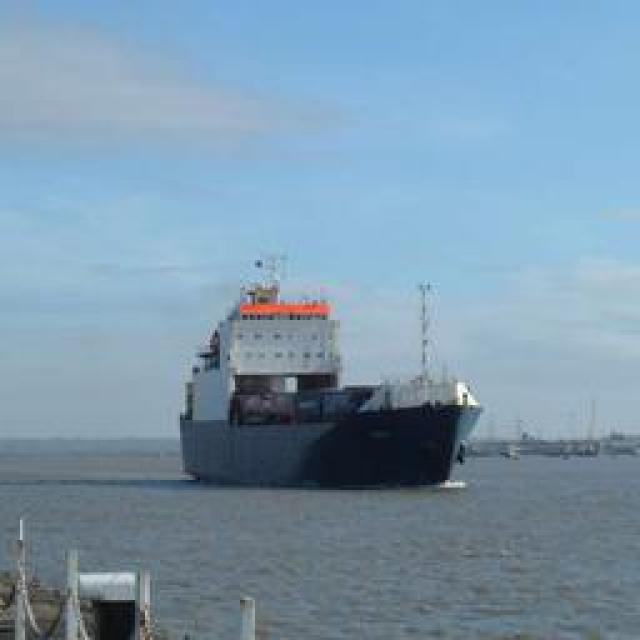CIV_Ship: (176, 260, 486, 490)
